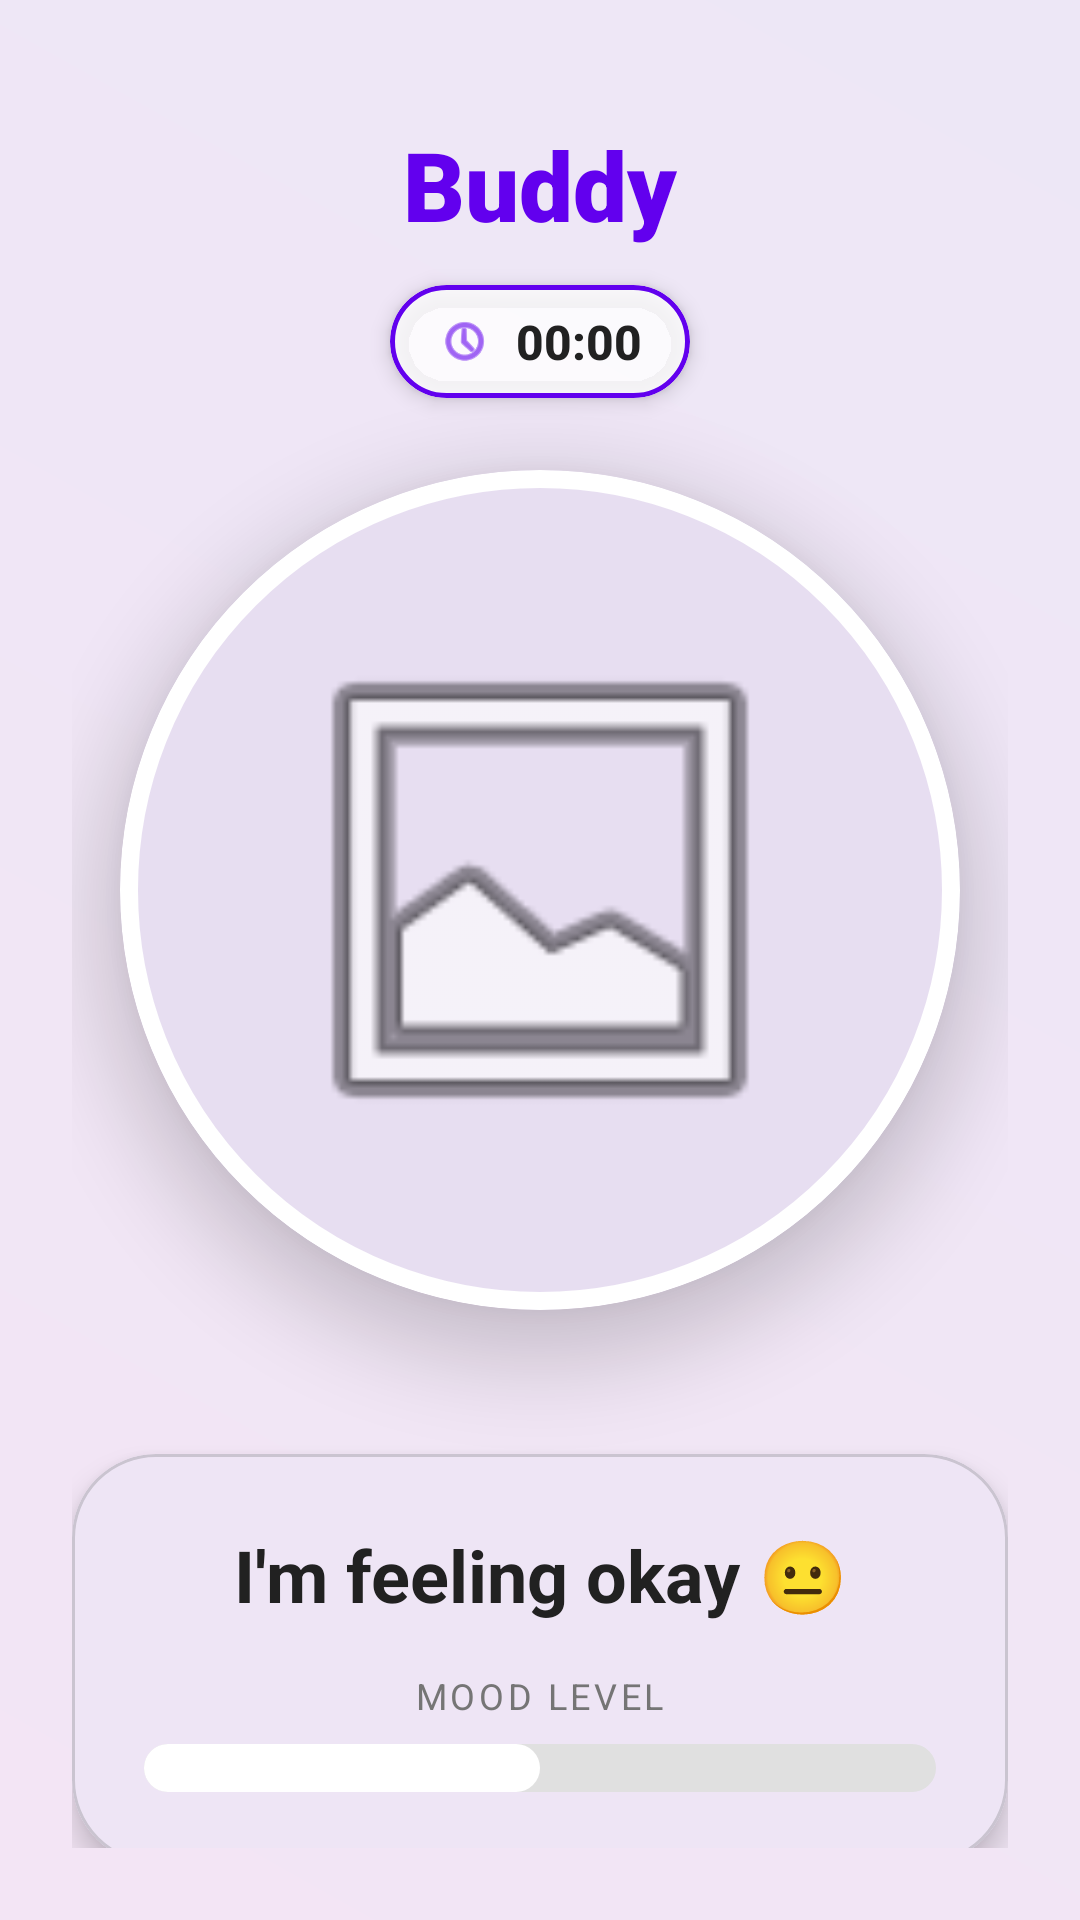

Where icons sit on this 1080x1920 app screen, as (x1, y1, x2, y2):
recent history: (445, 322, 484, 361)
